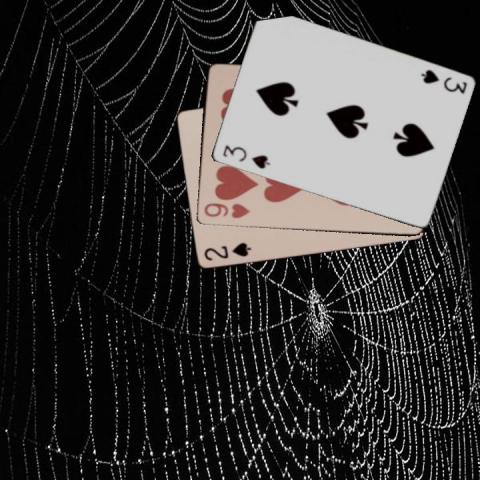2s: (200, 240, 252, 263)
3s: (219, 142, 271, 170), (417, 67, 468, 95)
9h: (200, 200, 250, 220)
